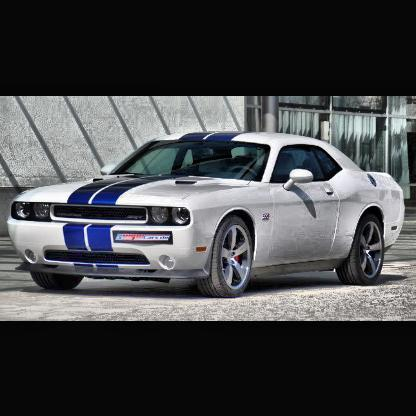Dodge Challenger SRT8 2011: (9, 131, 407, 298)
